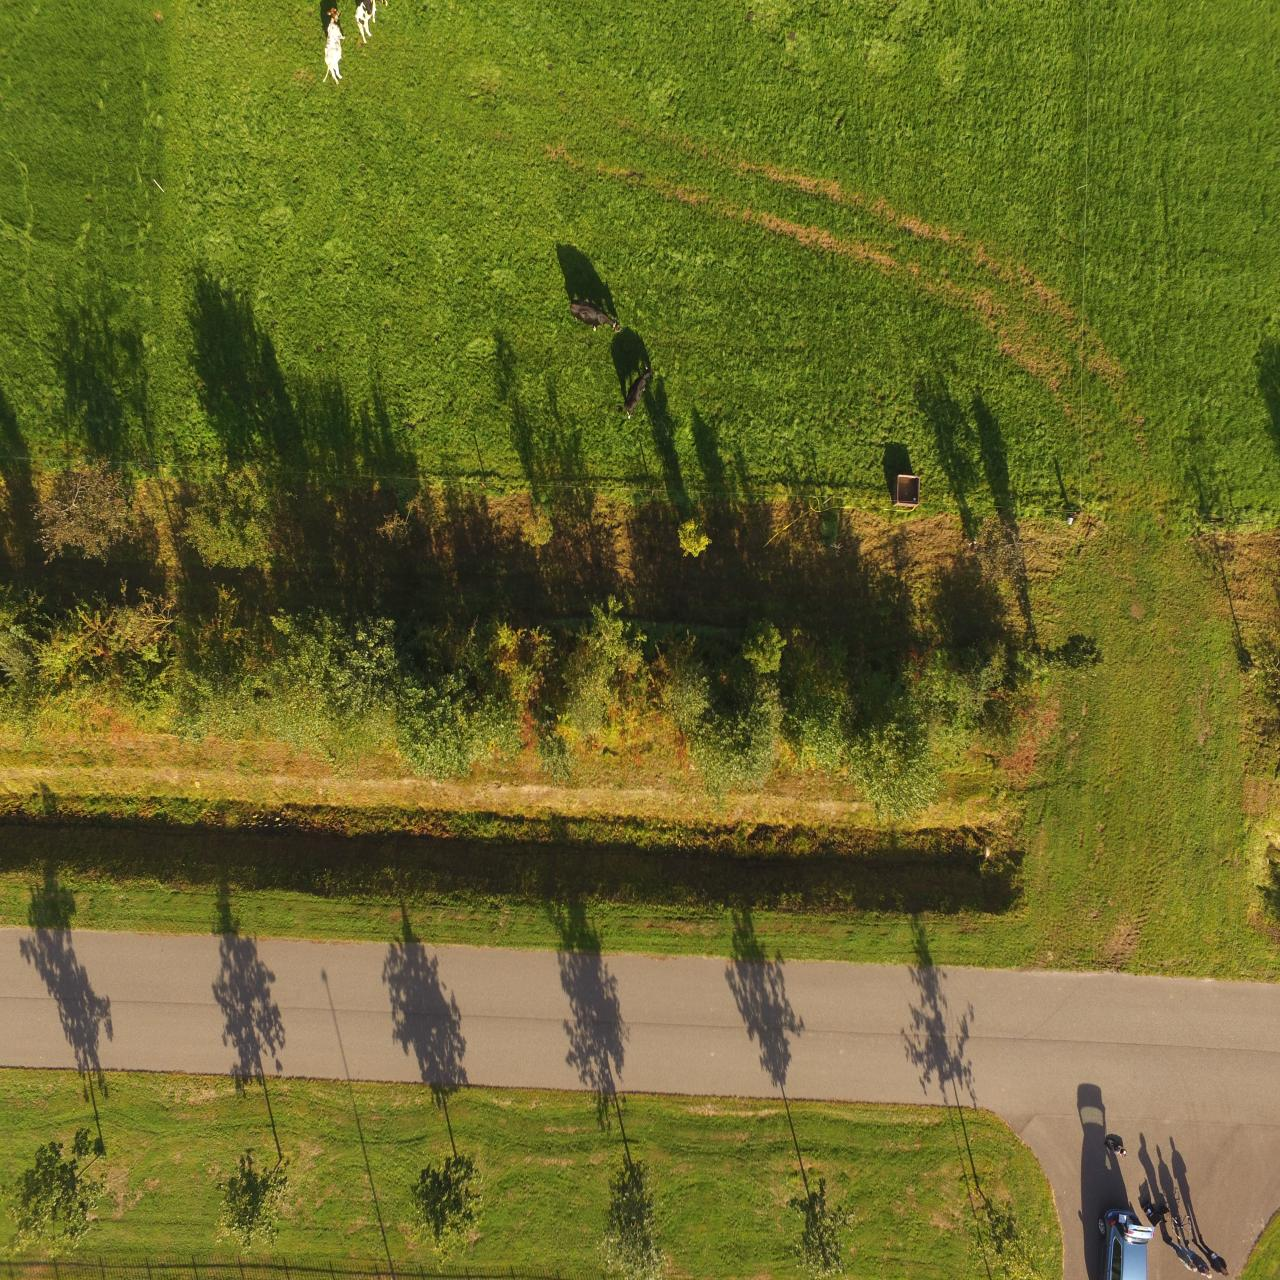cow: (322, 4, 343, 88), (570, 298, 624, 331), (622, 365, 653, 418)
